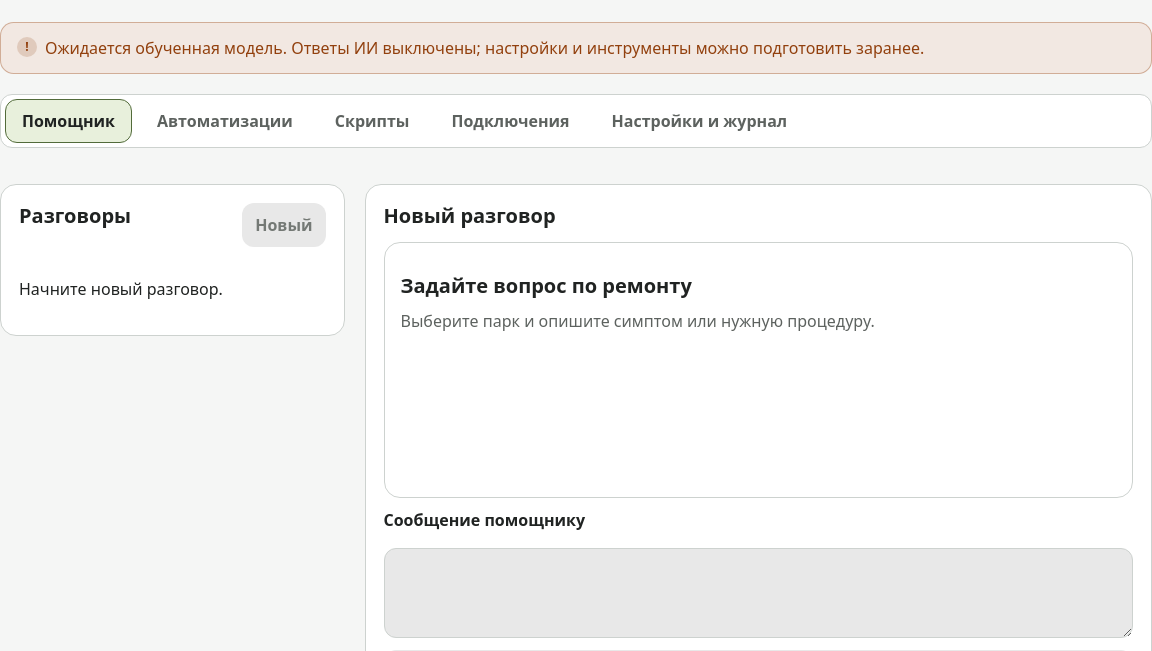
Test: AssistantPage › waits for a trained model while allowing manual preparation without inference
Check: the text "Ожидается обученная модель" is shown, box [45,37,924,59]
Check: the text box labelled "Сообщение помощнику" is disabled, box [384,548,1133,638]
Click the tab "Скрипты" at [372, 121], box [318,99,426,143]
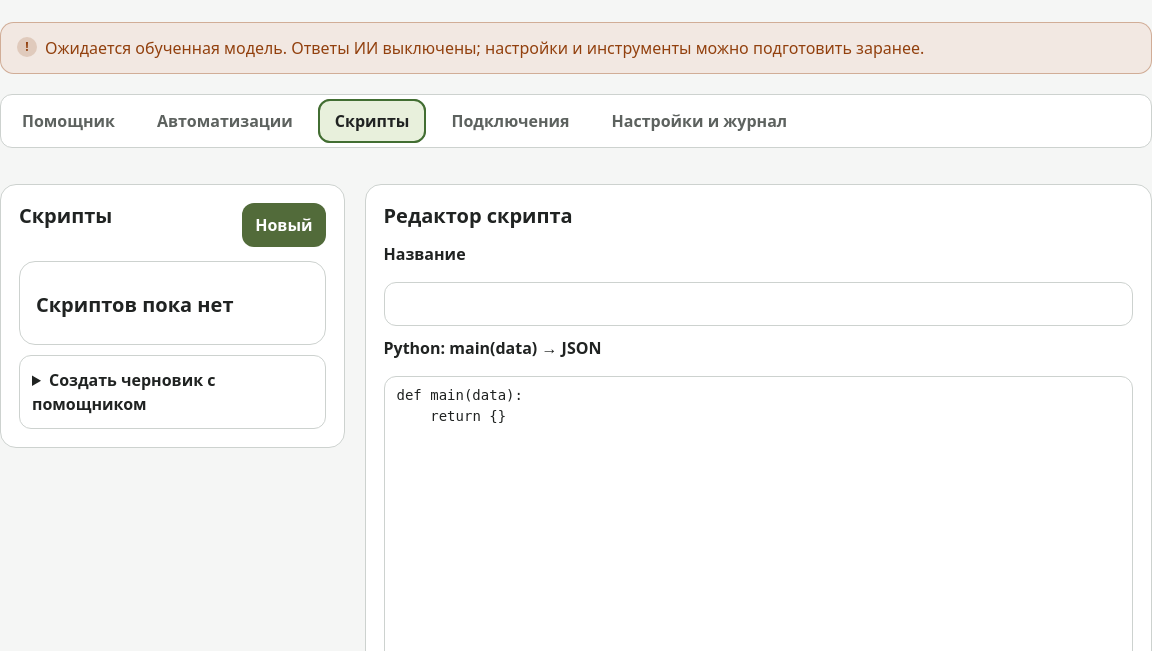
Check: the field labelled "Название" is enabled, box [384,282,1133,326]
Click the heading "Создать черновик с помощником" at [124, 392], box [32,369,216,415]
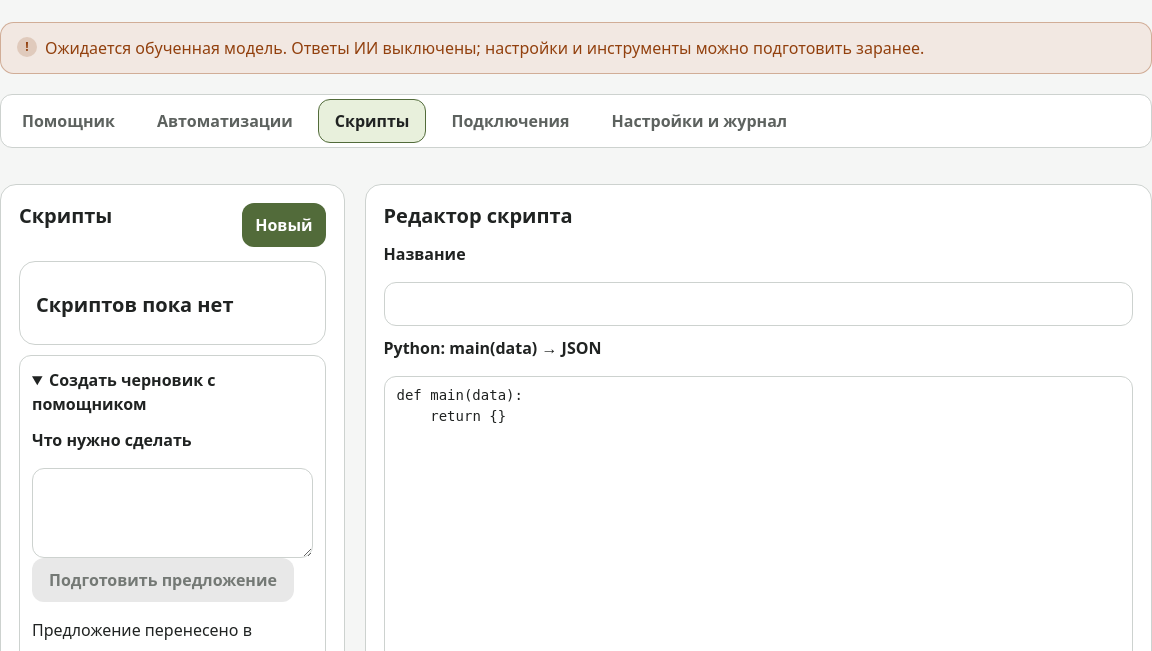
Type "Проверить состав отчёта" into the text box labelled "Что нужно сделать" at [172, 513], box [32,468,312,558]
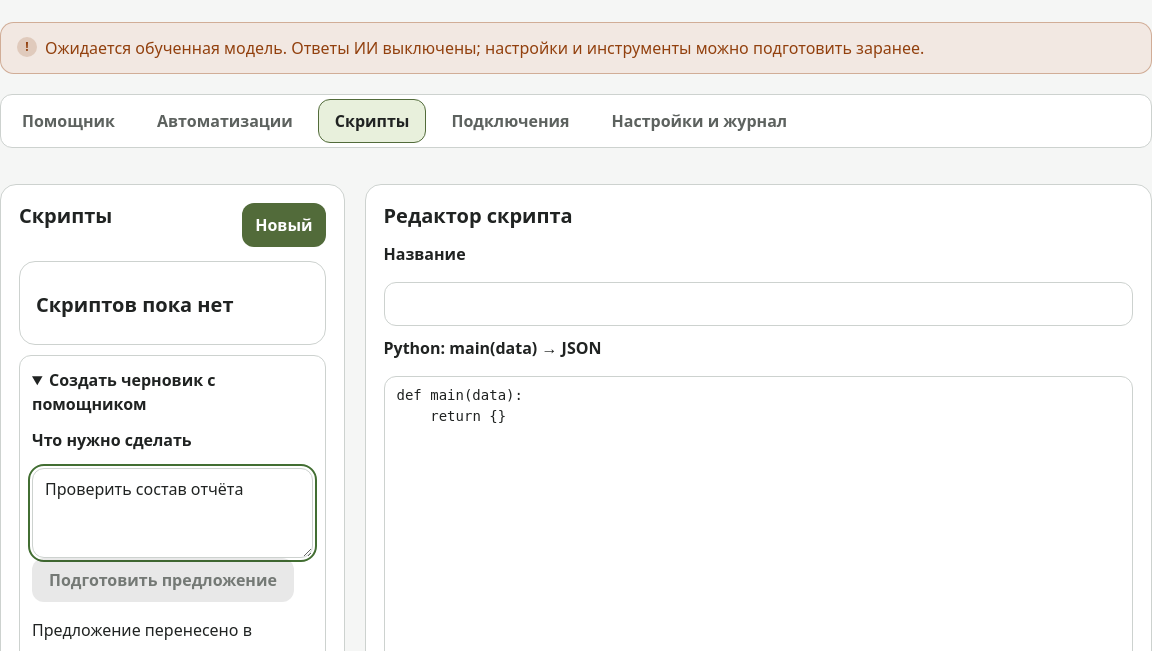
Check: the button "Подготовить предложение" is disabled, box [32,558,294,602]
Click the tab "Настройки и журнал" at [699, 121], box [595,99,804,143]
(page scrolled)
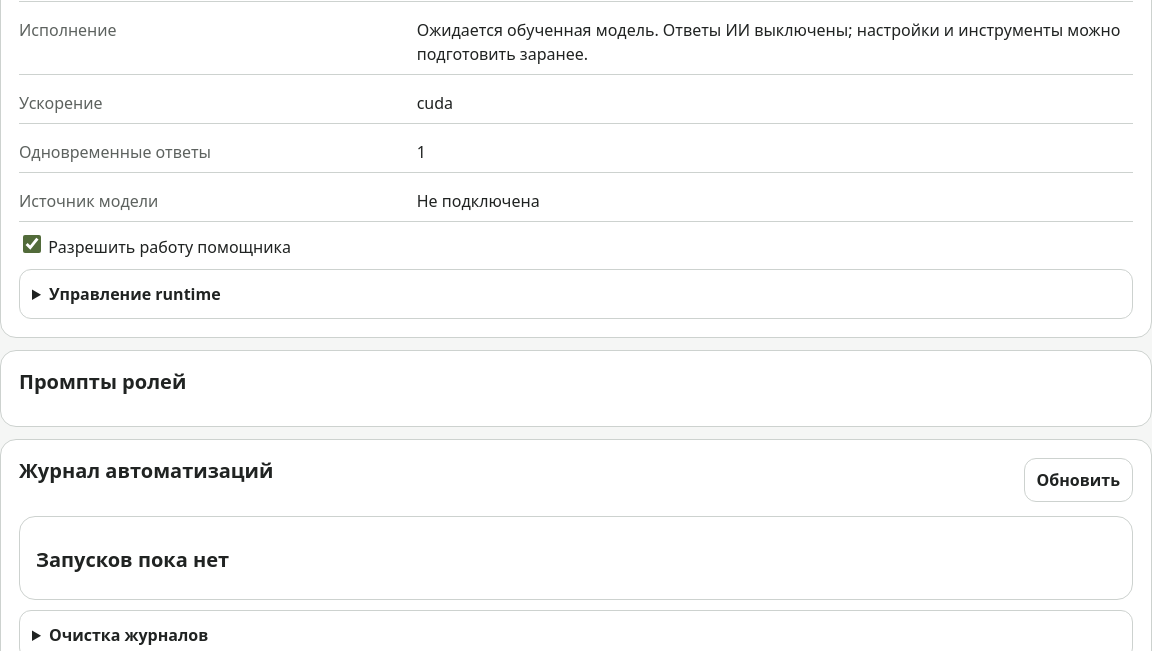
Click the heading "Управление runtime" at [135, 294], box [49,283,221,305]
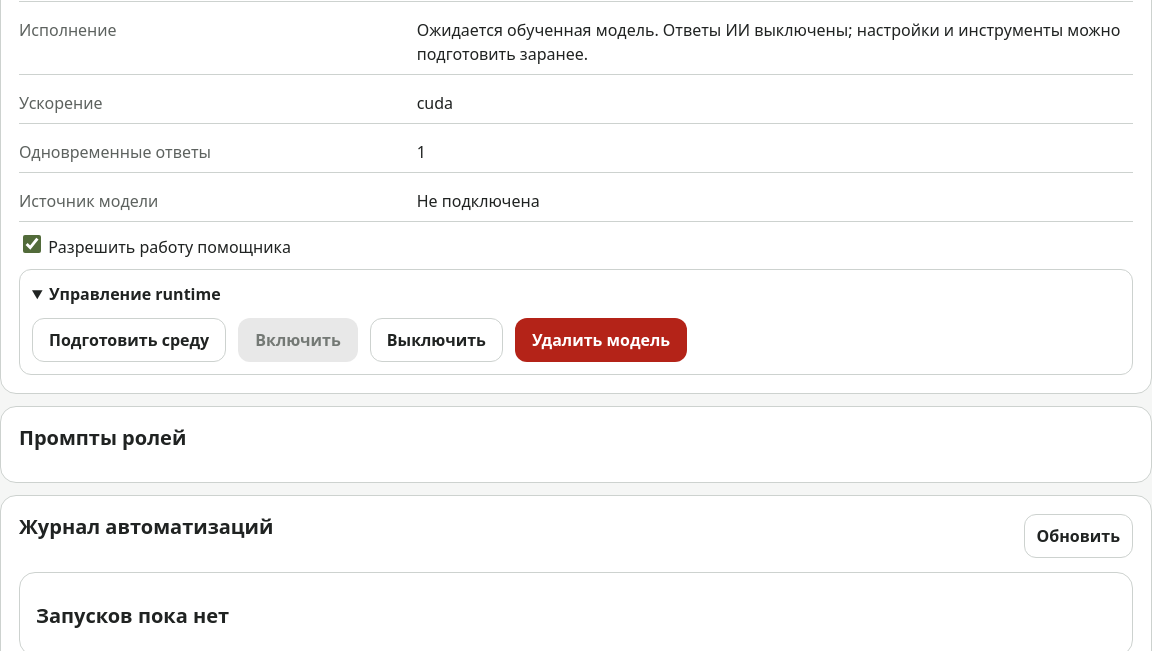
Check: the button "Включить" is disabled, box [238,318,358,362]
Check: the button "Подготовить среду" is enabled, box [32,318,226,362]
